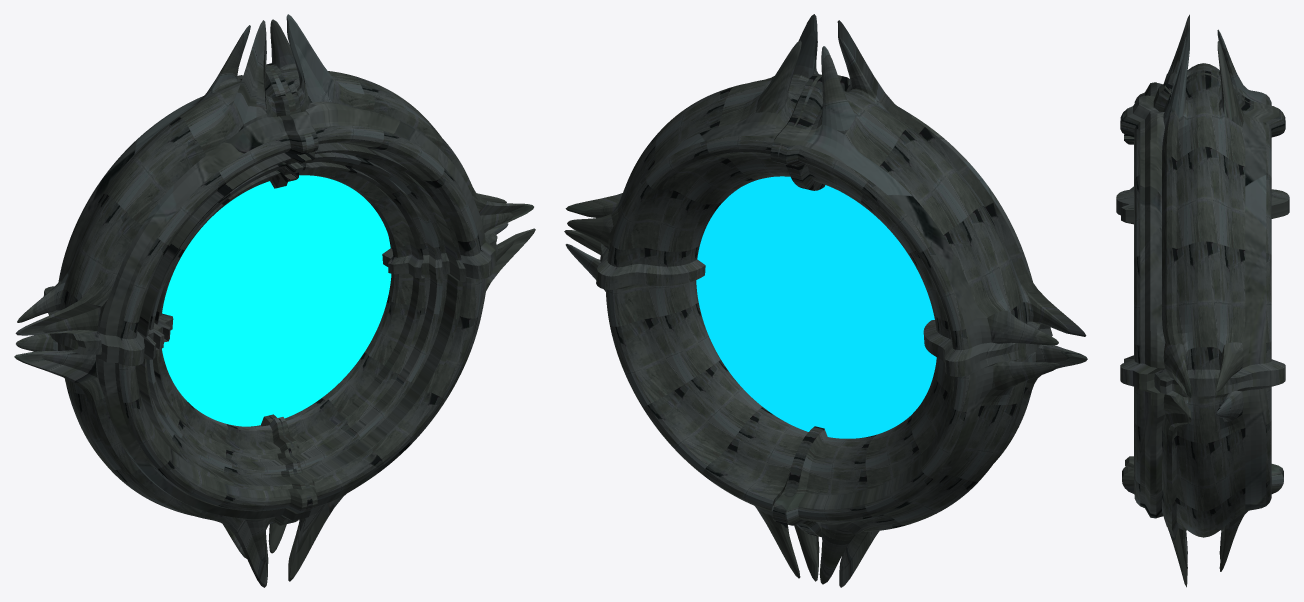
File: radical_portal.glb
3 renders of one model, left to right at view 1: azimuth 30°, elevation 25°; view 2: azimuth 150°, elevation 25°; view 3: azimuth 270°, elevation 25°, orthographic.
Visible parts, largest first — view 1: portal, Plane; view 2: portal, Plane; view 3: portal.
Part boxes in pixels (bbox=[...]): portal: bbox=[14, 14, 535, 587]; Plane: bbox=[162, 175, 391, 426]; portal: bbox=[564, 14, 1087, 587]; Plane: bbox=[696, 176, 936, 438]; portal: bbox=[1116, 14, 1289, 587].
Bounding box in the file's own units: 12.66 × 13.15 × 3.68.
Materials: 2 (1 with a texture image).
